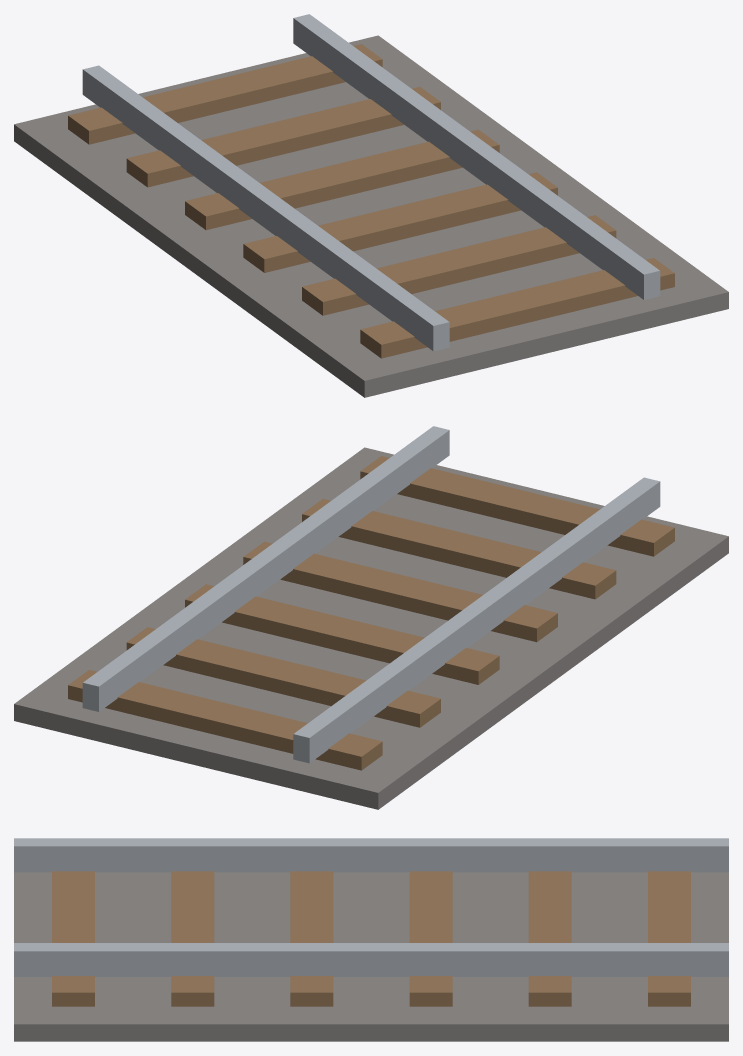
The model's file is 10_railway_track.glb.
The picture shows the model from 3 angles, top to bottom: view 1: azimuth 30°, elevation 25°; view 2: azimuth 150°, elevation 25°; view 3: azimuth 270°, elevation 25°; orthographic projection.
Parts seen in each view (by area): view 1: RailwayTrack; view 2: RailwayTrack; view 3: RailwayTrack.
Boxes of the visible parts, x1=… form: RailwayTrack: x1=14, y1=14, x2=728, y2=397; RailwayTrack: x1=14, y1=426, x2=728, y2=809; RailwayTrack: x1=14, y1=838, x2=728, y2=1041.
Bounding box in the file's own units: 1.8 × 0.26 × 3.
